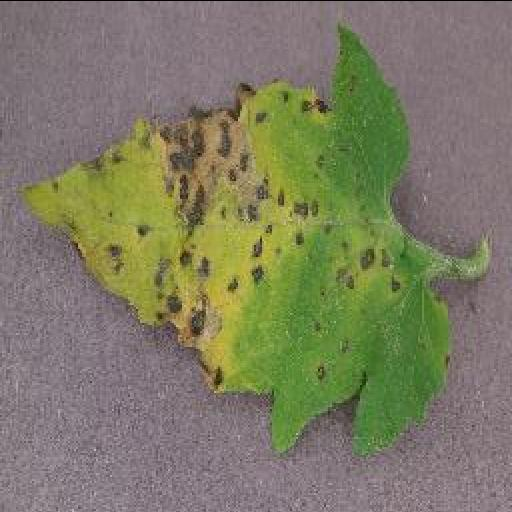disease_tomato: (18, 18, 452, 460)
